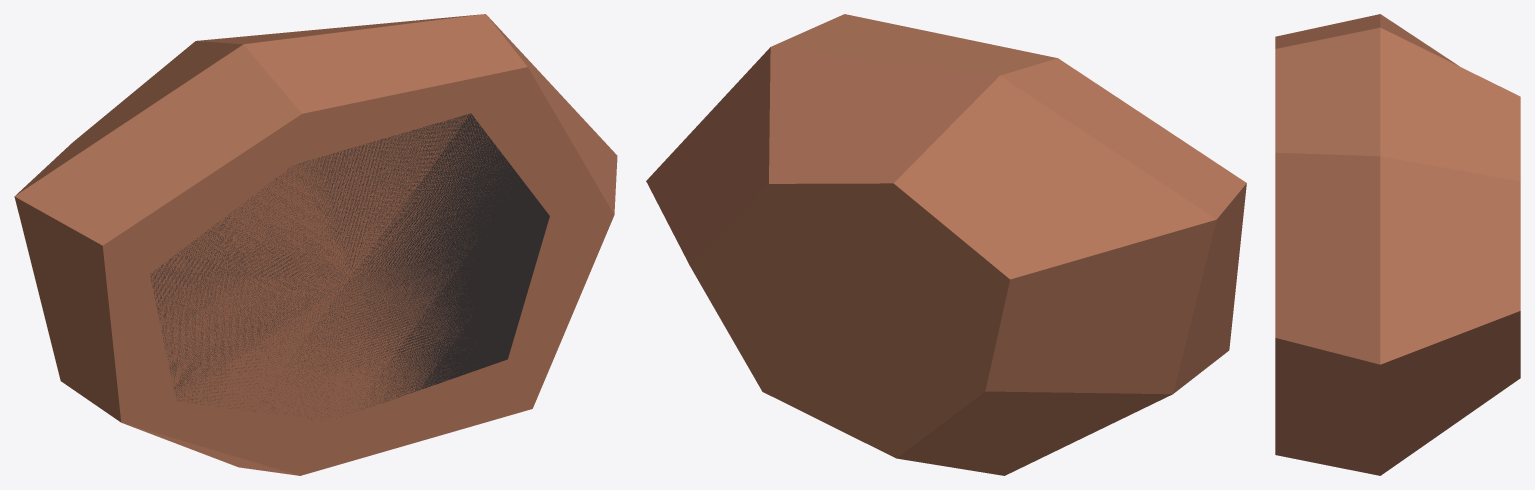
Rendered from CrashBasinRockA.fbx.
The picture shows the model from 3 angles, left to right: view 1: azimuth 30°, elevation 25°; view 2: azimuth 150°, elevation 25°; view 3: azimuth 270°, elevation 25°; orthographic projection. The views are drawn at different scales.
Visible parts, largest first — view 1: RockBody, RockFoot; view 2: RockBody; view 3: RockBody.
Part boxes in pixels (<box>): RockBody: <box>14,14,617,475</box>; RockFoot: <box>150,113,549,419</box>; RockBody: <box>646,14,1246,475</box>; RockBody: <box>1275,14,1520,475</box>.
Size of the model in its own units: 243 by 163 by 98.
